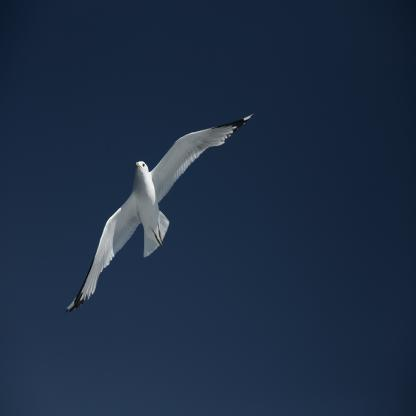bird: (64, 113, 254, 314)
